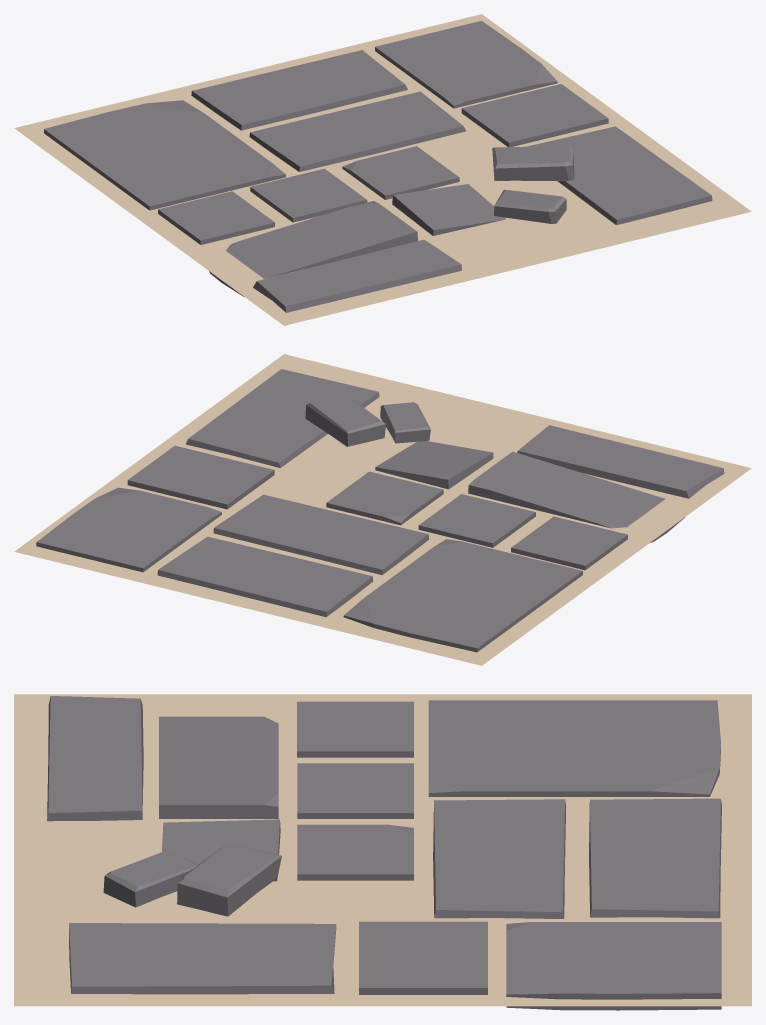
File: ground_tiles_3.fbx
3 views of the same model, one above another, from view 1: azimuth 30°, elevation 25°; view 2: azimuth 150°, elevation 25°; view 3: azimuth 270°, elevation 25° (orthographic). The views are drawn at different scales.
Visible parts, largest first — view 1: Ground_Tile_3; view 2: Ground_Tile_3; view 3: Ground_Tile_3.
Part boxes in pixels (bbox=[...]): Ground_Tile_3: bbox=[14, 14, 751, 325]; Ground_Tile_3: bbox=[14, 354, 751, 665]; Ground_Tile_3: bbox=[14, 694, 751, 1010].
Bounding box in the file's own units: 1200 × 117 × 1200.
